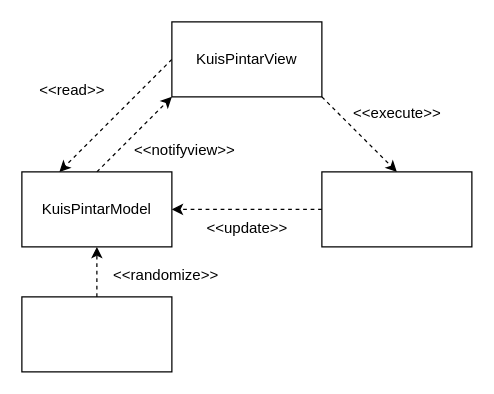
The diagram is 494 pixels wide and 394 high, and some of its shapes have lost their labels. Each missing label, with the centre of its shape:
KuisPintarController: the point at 396,209
RandArray: the point at 96,334
